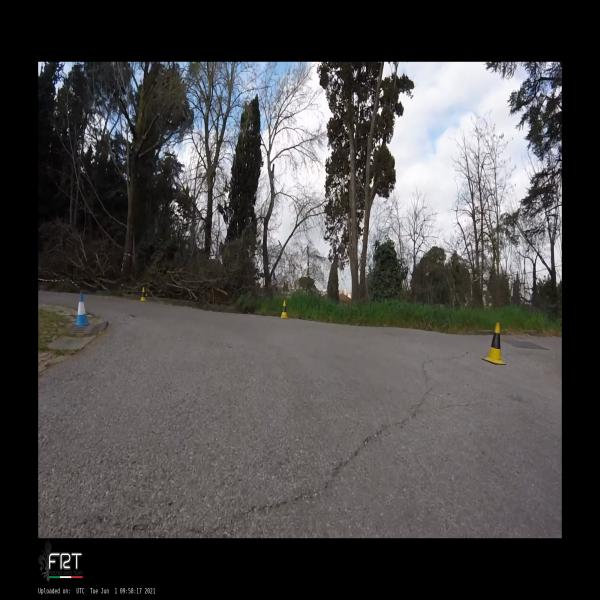blue_cone: (74, 290, 90, 326)
yellow_cone: (482, 322, 507, 365), (280, 300, 288, 319), (140, 288, 147, 302)
